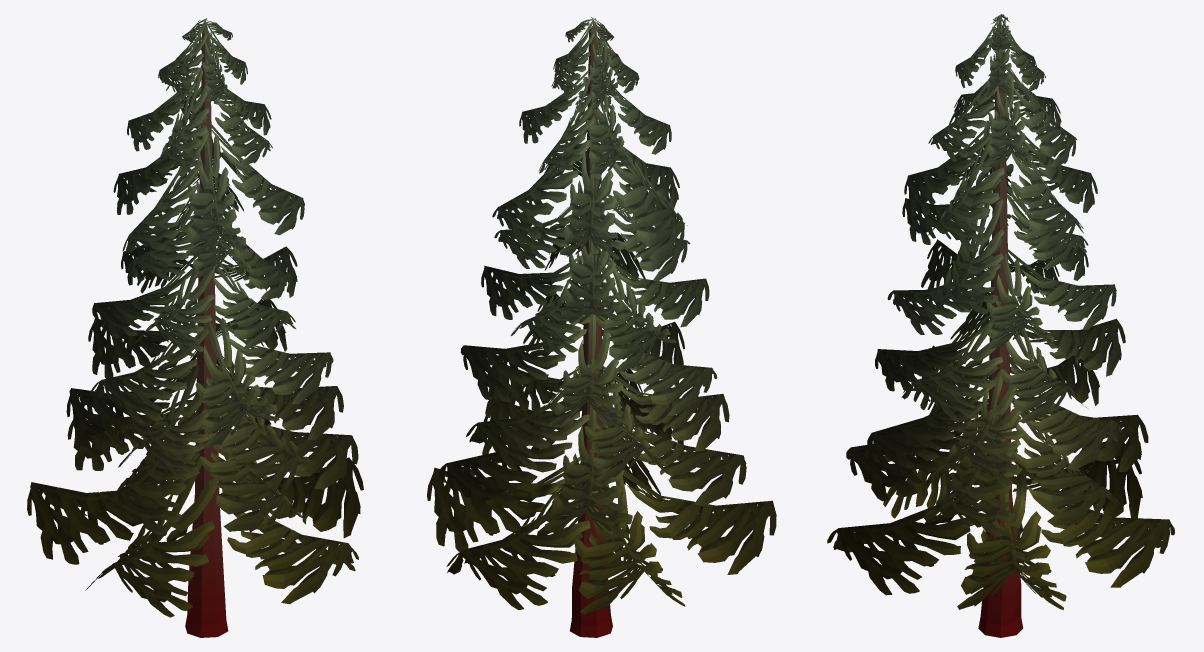
3 views of the same model, side by side, from view 1: azimuth 30°, elevation 25°; view 2: azimuth 150°, elevation 25°; view 3: azimuth 270°, elevation 25° (orthographic).
Visible parts, largest first — view 1: SM_Tree_Pine_01; view 2: SM_Tree_Pine_01; view 3: SM_Tree_Pine_01.
Part boxes in pixels (bbox=[...]): SM_Tree_Pine_01: bbox=[27, 18, 363, 637]; SM_Tree_Pine_01: bbox=[427, 17, 776, 637]; SM_Tree_Pine_01: bbox=[827, 14, 1174, 637].
Size of the model in its own units: 3.14 by 5.68 by 3.17.
2 materials, 2 textured.
